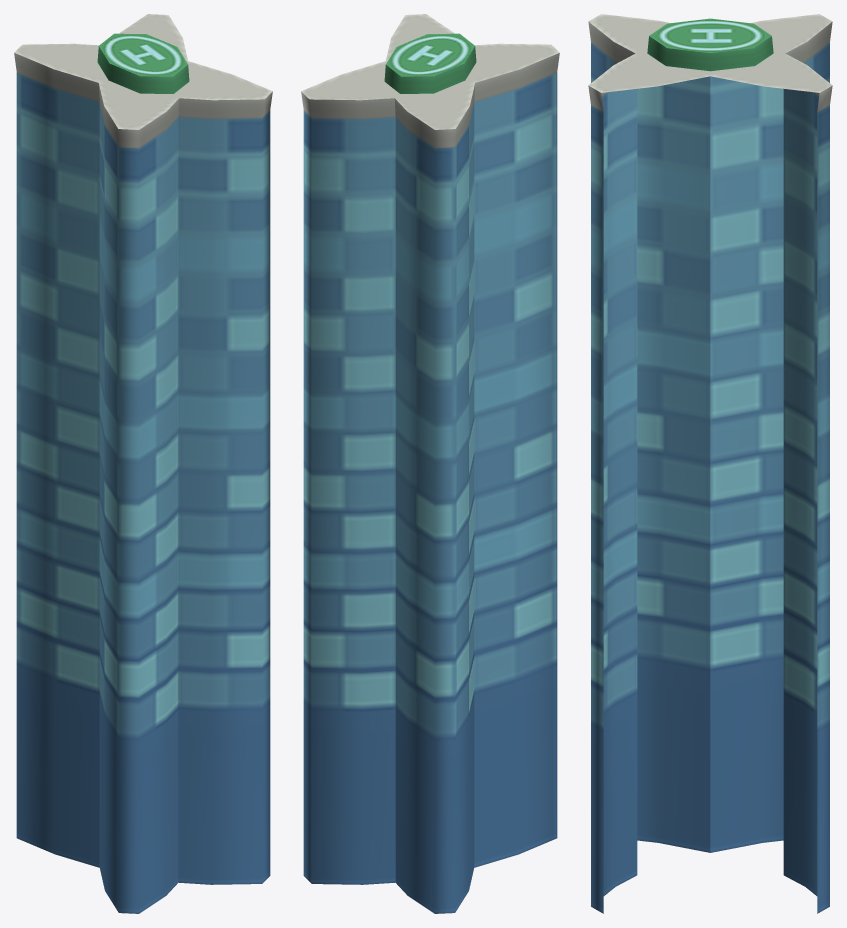
File: MarineCity_Building_B_02.fbx
3 renders of one model, left to right at view 1: azimuth 30°, elevation 25°; view 2: azimuth 150°, elevation 25°; view 3: azimuth 270°, elevation 25°, orthographic. The views are drawn at different scales.
Visible parts, largest first — view 1: MarineCity_Building_B_02; view 2: MarineCity_Building_B_02; view 3: MarineCity_Building_B_02.
Boxes of the visible parts, x1,y1,x2,y2 form: MarineCity_Building_B_02: [14, 14, 272, 913]; MarineCity_Building_B_02: [301, 14, 559, 913]; MarineCity_Building_B_02: [588, 14, 832, 913].
Size of the model in its own units: 2884 by 14300 by 3772.
